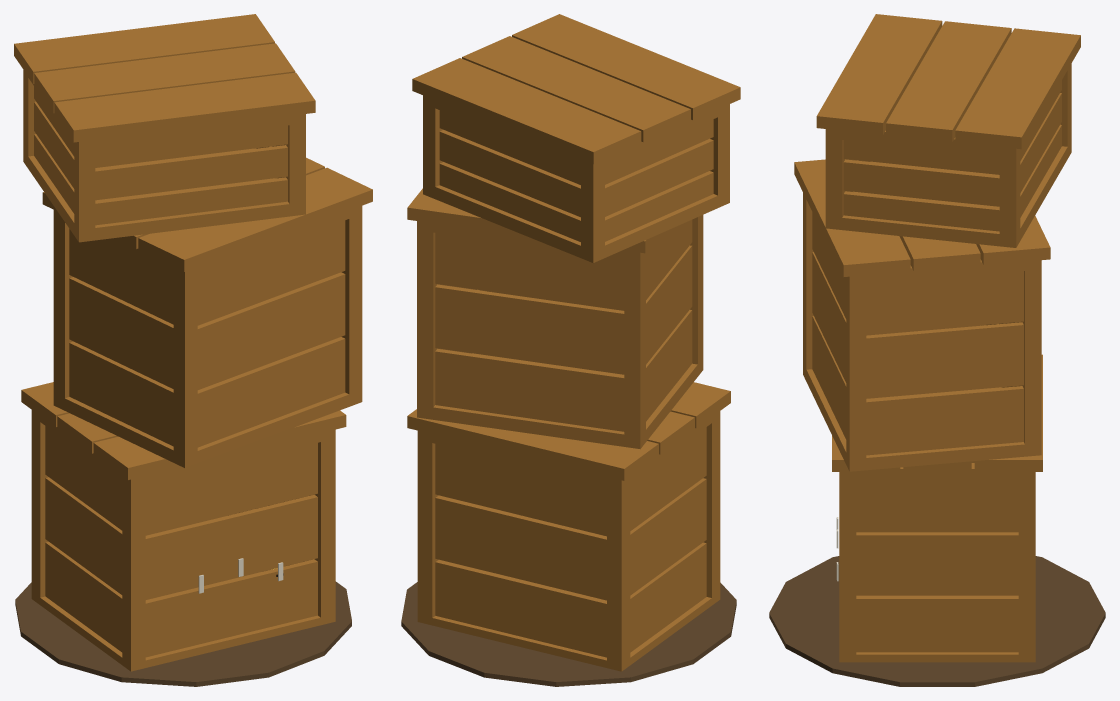
The model's file is SM_Crate_Tavern_02_Stack.glb.
3 renders of one model, left to right at view 1: azimuth 30°, elevation 25°; view 2: azimuth 150°, elevation 25°; view 3: azimuth 270°, elevation 25°, orthographic.
Parts seen in each view (by area): view 1: SM_Crate_Tavern_02_Stack_MidPanels, SM_Crate_Tavern_02_Stack_BasePanels, SM_Crate_Tavern_02_Stack_TopLid, SM_Crate_Tavern_02_Stack_MidFrame, SM_Crate_Tavern_02_Stack_TopPanels, SM_Crate_Tavern_02_Stack_BaseFrame, SM_Crate_Tavern_02_Stack_DirtRing, SM_Crate_Tavern_02_Stack_TopFrame, SM_Crate_Tavern_02_Stack_MidLid, SM_Crate_Tavern_02_Stack_BaseLid; view 2: SM_Crate_Tavern_02_Stack_BasePanels, SM_Crate_Tavern_02_Stack_MidPanels, SM_Crate_Tavern_02_Stack_TopLid, SM_Crate_Tavern_02_Stack_TopPanels, SM_Crate_Tavern_02_Stack_BaseFrame, SM_Crate_Tavern_02_Stack_MidFrame, SM_Crate_Tavern_02_Stack_TopFrame, SM_Crate_Tavern_02_Stack_DirtRing, SM_Crate_Tavern_02_Stack_BaseLid, SM_Crate_Tavern_02_Stack_MidLid; view 3: SM_Crate_Tavern_02_Stack_MidPanels, SM_Crate_Tavern_02_Stack_BasePanels, SM_Crate_Tavern_02_Stack_TopLid, SM_Crate_Tavern_02_Stack_DirtRing, SM_Crate_Tavern_02_Stack_TopPanels, SM_Crate_Tavern_02_Stack_MidFrame, SM_Crate_Tavern_02_Stack_BaseFrame, SM_Crate_Tavern_02_Stack_TopFrame, SM_Crate_Tavern_02_Stack_MidLid, SM_Crate_Tavern_02_Stack_BaseLid.
Part boxes in pixels (x1=…): SM_Crate_Tavern_02_Stack_MidPanels: x1=69, y1=220, x2=345, y2=447; SM_Crate_Tavern_02_Stack_BasePanels: x1=45, y1=426, x2=317, y2=657; SM_Crate_Tavern_02_Stack_TopLid: x1=14, y1=14, x2=315, y2=142; SM_Crate_Tavern_02_Stack_MidFrame: x1=53, y1=206, x2=362, y2=467; SM_Crate_Tavern_02_Stack_TopPanels: x1=34, y1=86, x2=287, y2=225; SM_Crate_Tavern_02_Stack_BaseFrame: x1=31, y1=410, x2=335, y2=671; SM_Crate_Tavern_02_Stack_DirtRing: x1=15, y1=581, x2=351, y2=686; SM_Crate_Tavern_02_Stack_TopFrame: x1=23, y1=70, x2=305, y2=242; SM_Crate_Tavern_02_Stack_MidLid: x1=42, y1=157, x2=372, y2=271; SM_Crate_Tavern_02_Stack_BaseLid: x1=21, y1=382, x2=346, y2=479; SM_Crate_Tavern_02_Stack_BasePanels: x1=435, y1=427, x2=706, y2=657; SM_Crate_Tavern_02_Stack_MidPanels: x1=435, y1=220, x2=692, y2=431; SM_Crate_Tavern_02_Stack_TopLid: x1=412, y1=14, x2=740, y2=163; SM_Crate_Tavern_02_Stack_TopPanels: x1=439, y1=110, x2=713, y2=241; SM_Crate_Tavern_02_Stack_BaseFrame: x1=417, y1=411, x2=720, y2=671; SM_Crate_Tavern_02_Stack_MidFrame: x1=417, y1=215, x2=703, y2=449; SM_Crate_Tavern_02_Stack_TopFrame: x1=423, y1=95, x2=729, y2=262; SM_Crate_Tavern_02_Stack_DirtRing: x1=401, y1=582, x2=736, y2=686; SM_Crate_Tavern_02_Stack_BaseLid: x1=407, y1=382, x2=730, y2=480; SM_Crate_Tavern_02_Stack_MidLid: x1=407, y1=188, x2=660, y2=253; SM_Crate_Tavern_02_Stack_MidPanels: x1=812, y1=212, x2=1023, y2=455; SM_Crate_Tavern_02_Stack_BasePanels: x1=856, y1=481, x2=1018, y2=652; SM_Crate_Tavern_02_Stack_TopLid: x1=816, y1=14, x2=1080, y2=149; SM_Crate_Tavern_02_Stack_DirtRing: x1=769, y1=556, x2=1105, y2=686; SM_Crate_Tavern_02_Stack_TopPanels: x1=843, y1=80, x2=1061, y2=231; SM_Crate_Tavern_02_Stack_MidFrame: x1=803, y1=193, x2=1041, y2=471; SM_Crate_Tavern_02_Stack_BaseFrame: x1=839, y1=463, x2=1035, y2=662; SM_Crate_Tavern_02_Stack_TopFrame: x1=825, y1=63, x2=1071, y2=247; SM_Crate_Tavern_02_Stack_MidLid: x1=794, y1=159, x2=1050, y2=276; SM_Crate_Tavern_02_Stack_BaseLid: x1=832, y1=354, x2=1042, y2=471.
Size of the model in its own units: 0.8704 by 1.57 by 0.8928.
